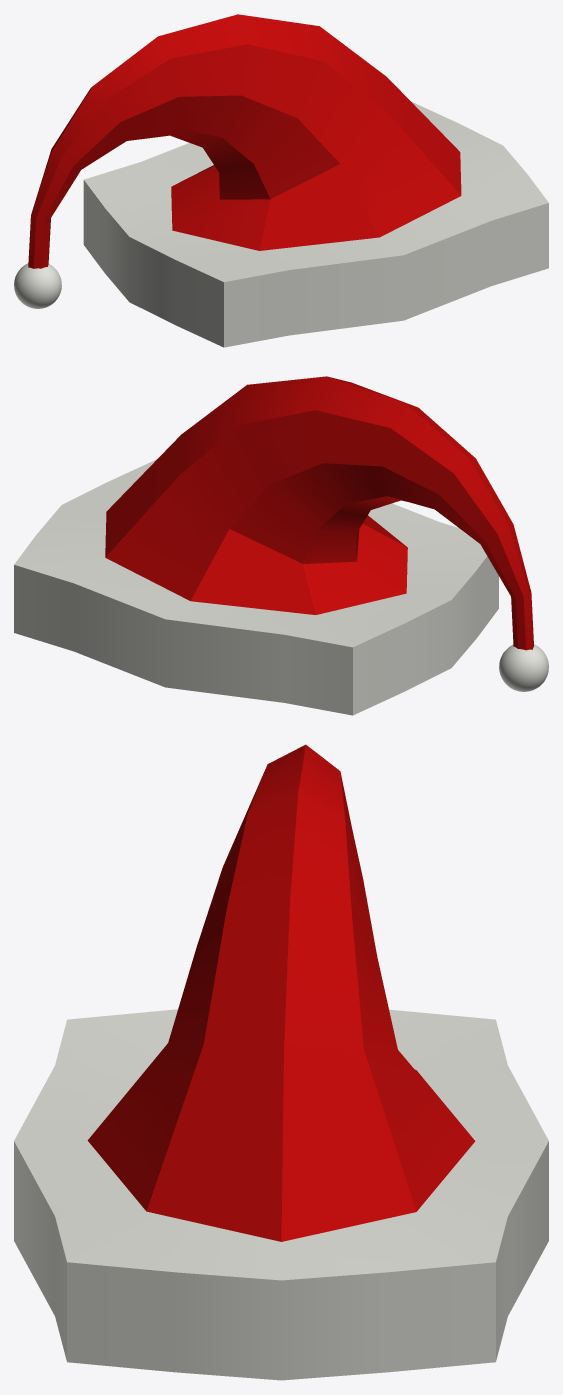
The model's file is Xmas Hat.FBX.
3 views of the same model, one above another, from view 1: azimuth 30°, elevation 25°; view 2: azimuth 150°, elevation 25°; view 3: azimuth 270°, elevation 25° (orthographic). The views are drawn at different scales.
Parts seen in each view (by area): view 1: Xmas_Hat; view 2: Xmas_Hat; view 3: Xmas_Hat.
Boxes of the visible parts, x1=… form: Xmas_Hat: x1=14, y1=14, x2=548, y2=347; Xmas_Hat: x1=14, y1=376, x2=548, y2=715; Xmas_Hat: x1=14, y1=744, x2=548, y2=1380.
Bounding box in the file's own units: 115 × 59.33 × 73.41.
